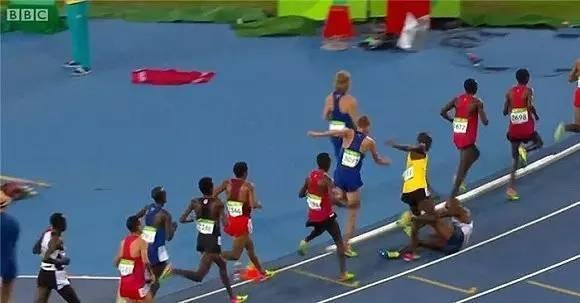Fall-Detected: (382, 188, 480, 263)
